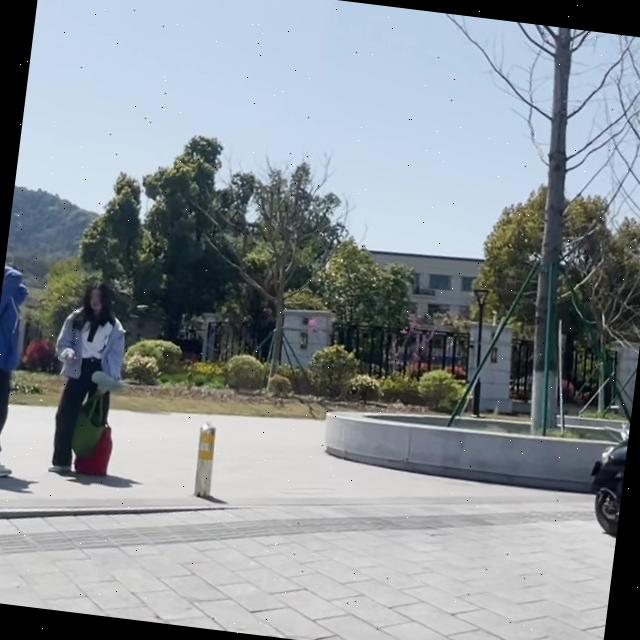curb: (324, 414, 609, 491), (0, 507, 227, 519)
